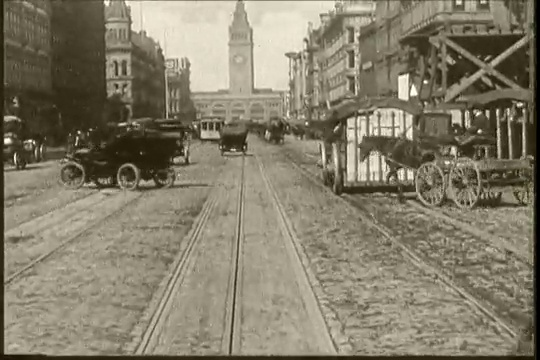car: (58, 116, 179, 200), (215, 120, 250, 158)
carriage: (349, 104, 536, 214), (307, 94, 422, 196)
trolley: (195, 114, 223, 142)
